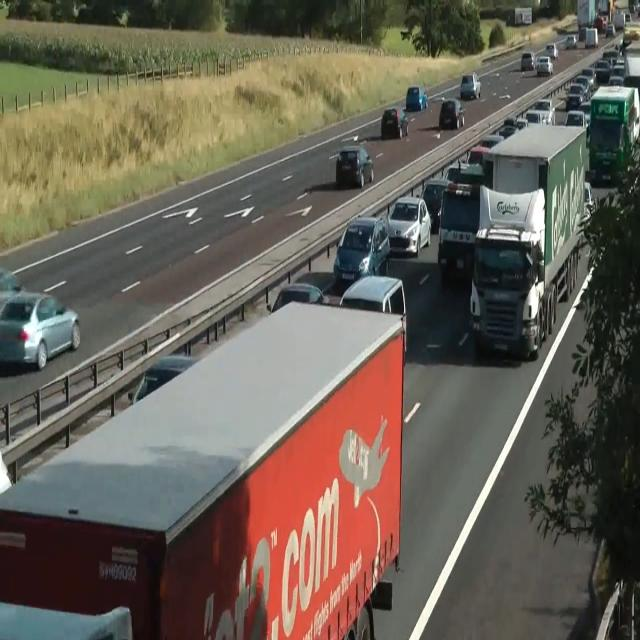bus: (0, 290, 80, 370), (339, 275, 407, 359), (128, 355, 200, 406), (595, 575, 639, 639), (387, 195, 431, 257), (267, 282, 326, 314), (419, 178, 452, 233), (336, 146, 374, 188), (0, 266, 22, 310), (380, 106, 408, 140), (438, 98, 466, 130), (565, 83, 587, 110), (460, 72, 481, 100), (406, 85, 428, 111), (0, 450, 13, 494), (583, 181, 595, 218), (564, 110, 586, 127), (615, 37, 632, 55), (591, 15, 607, 33), (521, 52, 535, 70), (546, 42, 558, 59), (565, 34, 577, 49), (605, 24, 615, 37), (624, 11, 631, 22)
car: (469, 184, 547, 360)
jeep: (437, 182, 481, 280), (333, 214, 391, 284), (536, 54, 553, 76)
minibus: (0, 300, 406, 639), (469, 123, 587, 360), (586, 83, 640, 185), (577, 0, 609, 39), (514, 6, 532, 25)
